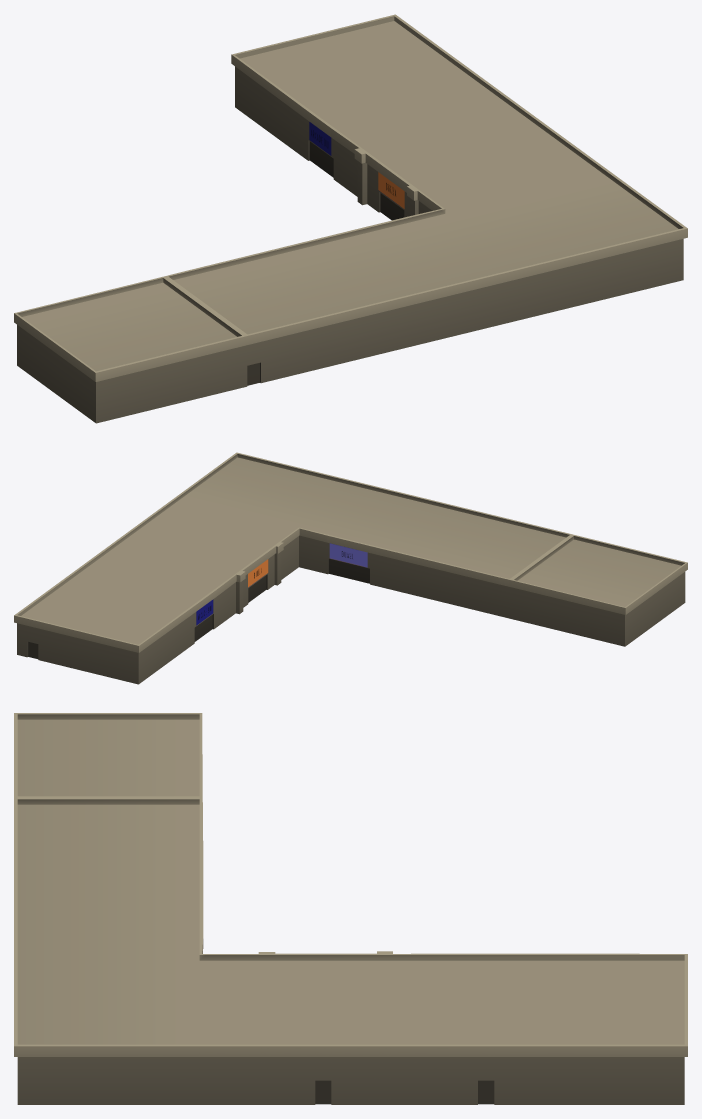
The model's file is L building.fbx.
The picture shows the model from 3 angles, top to bottom: view 1: azimuth 30°, elevation 25°; view 2: azimuth 150°, elevation 25°; view 3: azimuth 270°, elevation 25°; orthographic projection. The views are drawn at different scales.
Visible parts, largest first — view 1: Lbuilding; view 2: Lbuilding; view 3: Lbuilding.
Boxes of the visible parts, box(x1,y1,x2,y2) form: Lbuilding: box(14, 14, 687, 423); Lbuilding: box(14, 452, 687, 684); Lbuilding: box(14, 713, 687, 1104).
Size of the model in its own units: 70.11 by 5.9 by 59.95.
Materials: 2 (2 with a texture image).
